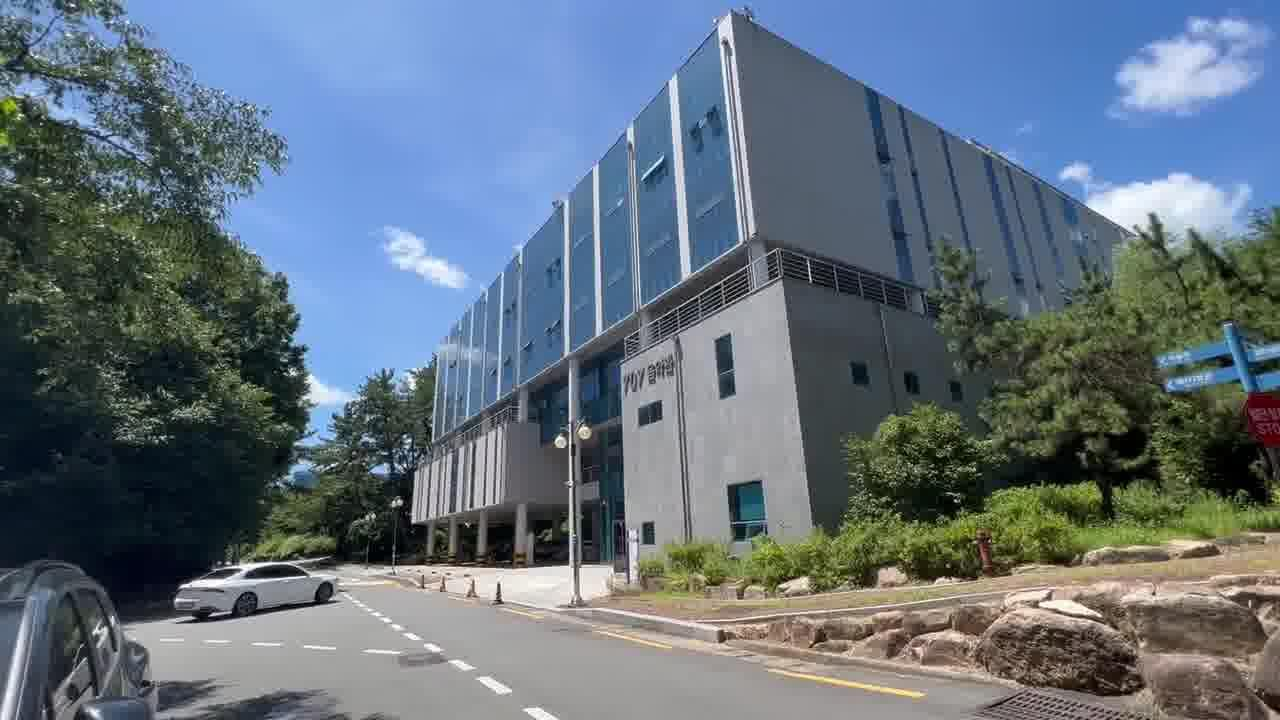building: (403, 43, 880, 538)
